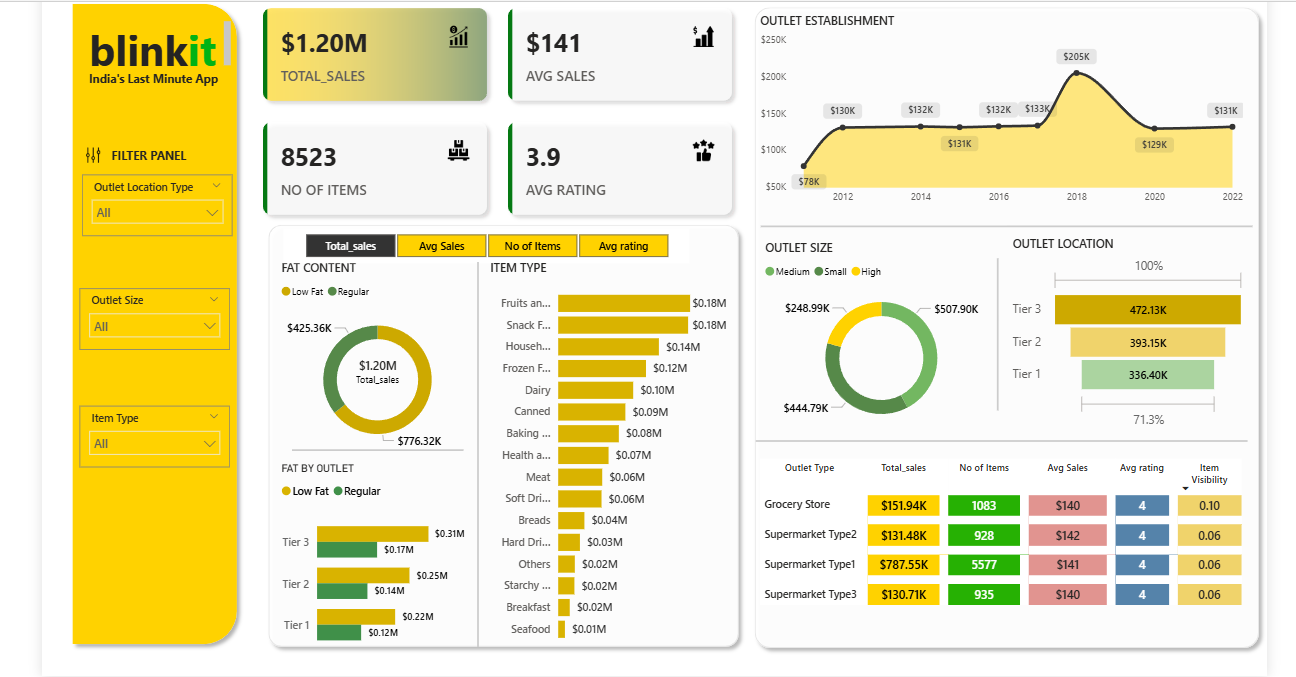

The page's visual inventory and layout, read from the dashboard file:
{"tool":"powerbi","page":{"name":"Page 1","canvas":[1400,800],"ordinal":0},"visuals":[{"type":"shape","box":[26,22,206,750],"z":0},{"type":"textbox","box":[48,46,172,74],"z":1000},{"type":"textbox","box":[48,102,188,58],"z":2000},{"type":"cardVisual","fields":{"Data":["BlinkIT Grocery Data.Total_sales","BlinkIT Grocery Data.Avg Sales","BlinkIT Grocery Data.No of Items","BlinkIT Grocery Data.Avg rating"]},"box":[236,18,570,270],"z":3000},{"type":"shape","box":[250,274.4,555,500],"z":4000},{"type":"donutChart","title":"FAT CONTENT","fields":{"Y":["BlinkIT Grocery Data.Total_sales"],"Category":["BlinkIT Grocery Data.Item Fat Content"]},"box":[268,323,230,230],"z":5000},{"type":"cardVisual","fields":{"Data":["BlinkIT Grocery Data.Total_sales"]},"box":[268,336,230,230],"z":6000},{"type":"slicer","fields":{"Values":["Metrics.Metrics"]},"box":[276,287,464,40],"z":7000},{"type":"clusteredBarChart","title":"FAT BY OUTLET","fields":{"Y":["BlinkIT Grocery Data.Total_sales"],"Category":["BlinkIT Grocery Data.Outlet Location Type"],"Series":["BlinkIT Grocery Data.Item Fat Content"]},"box":[268,554,220,230],"z":8000},{"type":"shape","box":[286,426,196,230],"z":9000},{"type":"shape","box":[374,326,248,440],"z":10000},{"type":"barChart","title":"ITEM TYPE","fields":{"Y":["BlinkIT Grocery Data.Total_sales"],"Category":["BlinkIT Grocery Data.Item Type"]},"box":[507.8,323.3,280,447.8],"z":11000},{"type":"shape","box":[806,26,594,750],"z":12000},{"type":"lineChart","title":"OUTLET ESTABLISHMENT","fields":{"Category":["BlinkIT Grocery Data.Outlet Establishment Year"],"Y":["BlinkIT Grocery Data.Total_sales"]},"box":[816,40,562,228],"z":13000},{"type":"donutChart","title":"OUTLET SIZE","fields":{"Y":["BlinkIT Grocery Data.Total_sales"],"Category":["BlinkIT Grocery Data.Outlet Size"]},"box":[822,300,276,226],"z":14000},{"type":"funnel","title":"OUTLET LOCATION","fields":{"Y":["Sum(BlinkIT Grocery Data.Sales)"],"Category":["BlinkIT Grocery Data.Outlet Location Type"]},"box":[1104,296,276,226],"z":15000},{"type":"shape","box":[822,170,562,230],"z":16000},{"type":"shape","box":[994,322,196,174],"z":17000},{"type":"shape","box":[816,514,562,32],"z":18000},{"type":"pivotTable","fields":{"Rows":["BlinkIT Grocery Data.Outlet Type"],"Values":["BlinkIT Grocery Data.Total_sales","BlinkIT Grocery Data.No of Items","BlinkIT Grocery Data.Avg Sales","BlinkIT Grocery Data.Avg rating","Avg(BlinkIT Grocery Data.Item Visibility)"]},"box":[816,546,568,218],"z":19000},{"type":"slicer","fields":{"Values":["BlinkIT Grocery Data.Outlet Location Type"]},"box":[46,226,172,70],"z":20000},{"type":"slicer","fields":{"Values":["BlinkIT Grocery Data.Outlet Size"]},"box":[42.6,356.1,172,70],"z":21000},{"type":"slicer","fields":{"Values":["BlinkIT Grocery Data.Item Type"]},"box":[42.6,490,172,70],"z":22000},{"type":"textbox","box":[74.6,190.2,120.2,33.5],"z":23000},{"type":"image","box":[45.7,190.2,25.9,27.4],"z":24000},{"type":"actionButton","box":[109.1,635.3,39.5,39.5],"z":25000},{"type":"textbox","box":[109.1,674.9,49.1,31.4],"z":26000}]}

Visuals, with their boxes on the page's 1400x800 design canvas (x1, y1, x2, y2). These are canvas units, not pixel positions in the 1296x677 screenshot, which may show the page scaled, cropped or inside an application window:
shape: <bbox>26, 22, 232, 772</bbox>
textbox: <bbox>48, 46, 220, 120</bbox>
textbox: <bbox>48, 102, 236, 160</bbox>
cardVisual - BlinkIT Grocery Data.Total_sales x BlinkIT Grocery Data.Avg Sales: <bbox>236, 18, 806, 288</bbox>
shape: <bbox>250, 274, 805, 774</bbox>
"FAT CONTENT" donutChart: <bbox>268, 323, 498, 553</bbox>
cardVisual - BlinkIT Grocery Data.Total_sales: <bbox>268, 336, 498, 566</bbox>
slicer - Metrics.Metrics: <bbox>276, 287, 740, 327</bbox>
"FAT BY OUTLET" clusteredBarChart: <bbox>268, 554, 488, 784</bbox>
shape: <bbox>286, 426, 482, 656</bbox>
shape: <bbox>374, 326, 622, 766</bbox>
"ITEM TYPE" barChart: <bbox>508, 323, 788, 771</bbox>
shape: <bbox>806, 26, 1400, 776</bbox>
"OUTLET ESTABLISHMENT" lineChart: <bbox>816, 40, 1378, 268</bbox>
"OUTLET SIZE" donutChart: <bbox>822, 300, 1098, 526</bbox>
"OUTLET LOCATION" funnel: <bbox>1104, 296, 1380, 522</bbox>
shape: <bbox>822, 170, 1384, 400</bbox>
shape: <bbox>994, 322, 1190, 496</bbox>
shape: <bbox>816, 514, 1378, 546</bbox>
pivotTable - BlinkIT Grocery Data.Outlet Type x BlinkIT Grocery Data.Total_sales: <bbox>816, 546, 1384, 764</bbox>
slicer - BlinkIT Grocery Data.Outlet Location Type: <bbox>46, 226, 218, 296</bbox>
slicer - BlinkIT Grocery Data.Outlet Size: <bbox>43, 356, 215, 426</bbox>
slicer - BlinkIT Grocery Data.Item Type: <bbox>43, 490, 215, 560</bbox>
textbox: <bbox>75, 190, 195, 224</bbox>
image: <bbox>46, 190, 72, 218</bbox>
actionButton: <bbox>109, 635, 149, 675</bbox>
textbox: <bbox>109, 675, 158, 706</bbox>
